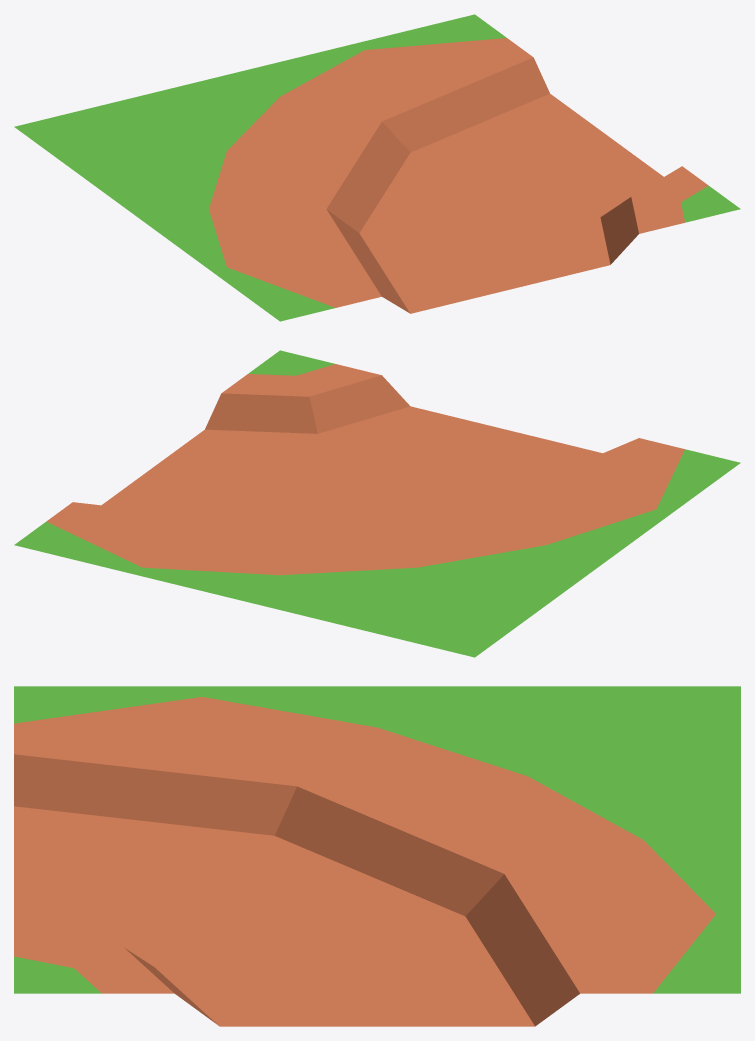
Rendered from ground_pathBendBank.glb.
The picture shows the model from 3 angles, top to bottom: view 1: azimuth 30°, elevation 25°; view 2: azimuth 150°, elevation 25°; view 3: azimuth 270°, elevation 25°; orthographic projection. The views are drawn at different scales.
Visible parts, largest first — view 1: ground_pathBendBank; view 2: ground_pathBendBank; view 3: ground_pathBendBank.
Part boxes in pixels (box(x1,y1,x2,y2)): ground_pathBendBank: box(14, 14, 740, 321); ground_pathBendBank: box(14, 350, 740, 657); ground_pathBendBank: box(14, 686, 740, 1026).
Size of the model in its own units: 1 by 0.05 by 1.
